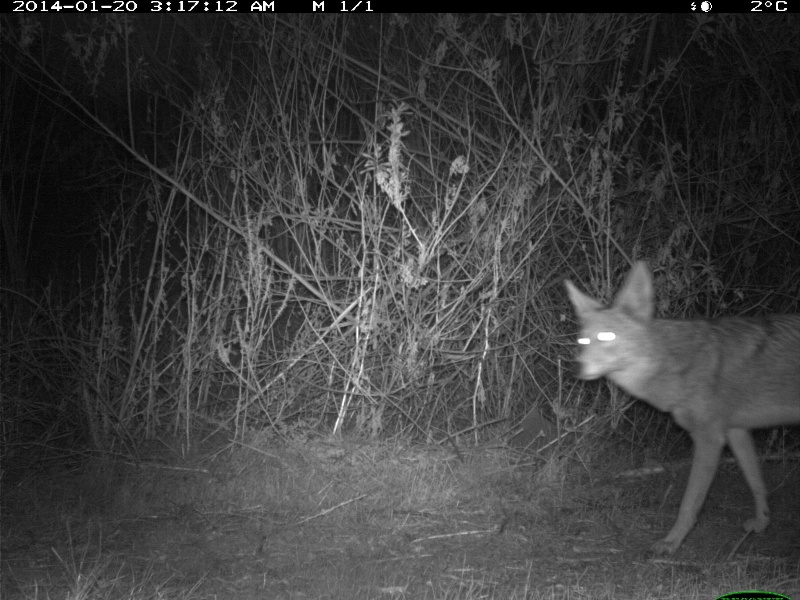coyote: (558, 263, 800, 559)
